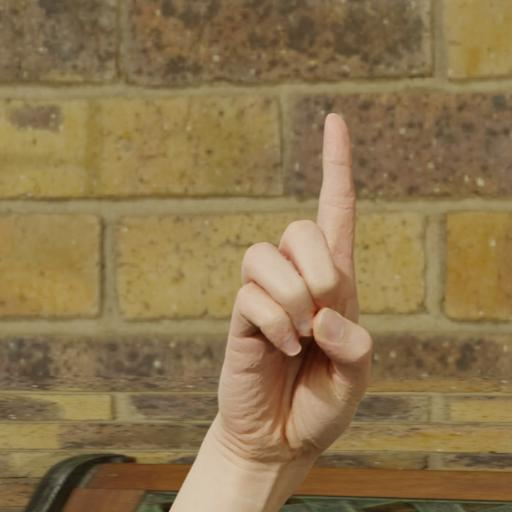D: (210, 98, 389, 468)
